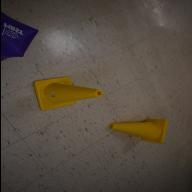cone: (31, 76, 102, 110), (108, 118, 168, 144)
cube: (1, 11, 38, 62)
